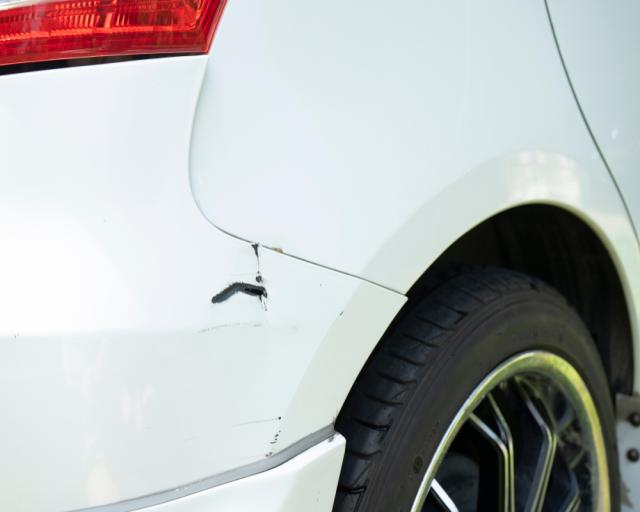crack: (243, 286, 268, 298)
scratch: (206, 242, 266, 307)
